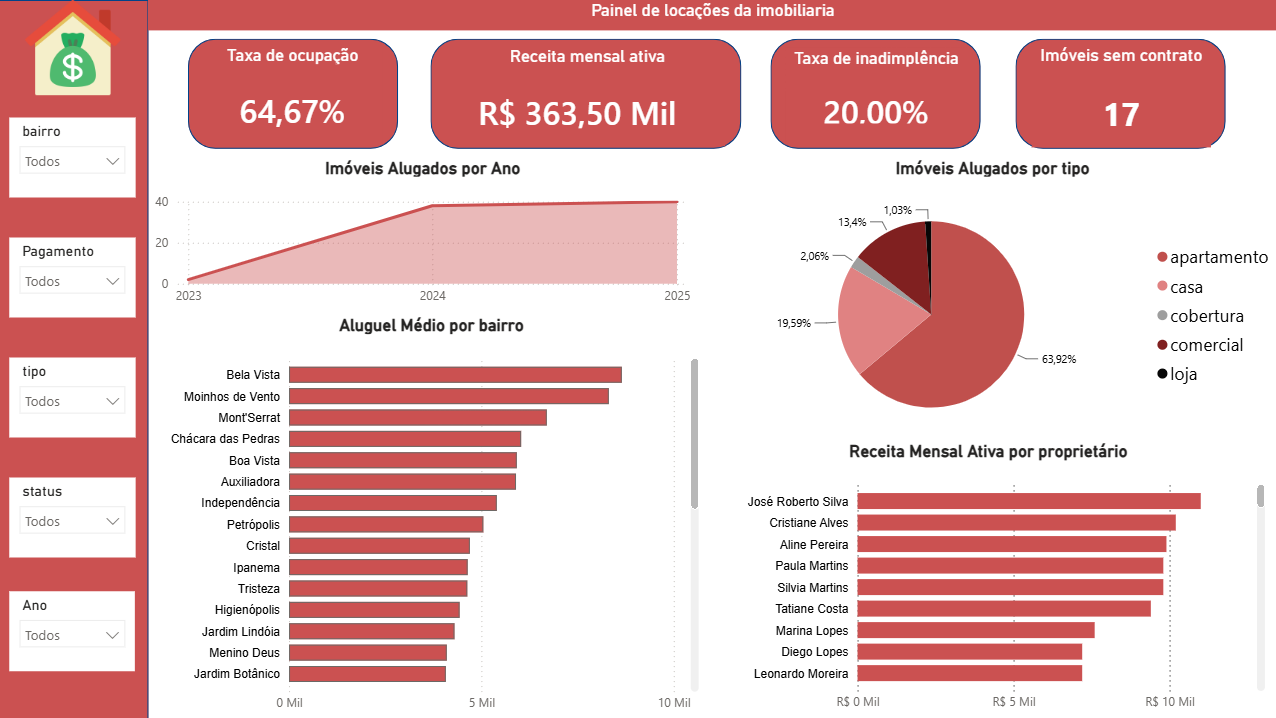

Layout of this report page (visuals, bound fields, positions):
{"tool":"powerbi","page":{"name":"Página 2","canvas":[1280,720],"ordinal":1},"visuals":[{"type":"shape","box":[0,0,150.4,720.2],"z":0},{"type":"shape","box":[433.1,38.6,310.8,110.1],"z":0},{"type":"slicer","fields":{"Values":["imoveis.bairro"]},"box":[11.5,117.5,126.1,80],"z":0,"group":"g1"},{"type":"shape","title":"Painel de locações da imobiliaria","box":[150.4,0,1129.9,30.6],"z":1000},{"type":"shape","box":[773,38.6,210.1,110.1],"z":1000},{"type":"slicer","fields":{"Values":["contratos.status_pagamento"]},"box":[11.5,237.5,126.1,80],"z":1000,"group":"g1"},{"type":"shape","box":[189.4,38.6,210.1,110.1],"z":2000},{"type":"slicer","fields":{"Values":["imoveis.tipo"]},"box":[11.5,357.5,126.1,80],"z":2000,"group":"g1"},{"type":"barChart","fields":{"Category":["imoveis.bairro"],"Y":["medidas.Aluguel Médio"]},"box":[161.1,315.1,544.7,405.6],"z":3000},{"type":"slicer","fields":{"Values":["contratos.data_inicio.Variation.Hierarquia de datas.Ano"]},"box":[11.6,590.8,125.8,80],"z":3000,"group":"g1"},{"type":"pieChart","fields":{"Category":["imoveis.tipo"],"Y":["medidas.Imóveis Alugados"]},"box":[708.2,158,571.9,278.7],"z":4000},{"type":"slicer","fields":{"Values":["imoveis.status"]},"box":[11.5,477.5,126.1,80],"z":4000,"group":"g1"},{"type":"cardVisual","title":"Taxa de ocupação","fields":{"Data":["medidas.Taxa de Ocupação"]},"box":[205.4,44.7,179.4,100.3],"z":5000},{"type":"areaChart","fields":{"Category":["contratos.data_inicio.Variation.Hierarquia de datas.Ano"],"Y":["medidas.Imóveis Alugados"]},"box":[151.9,157.7,544.7,156.2],"z":5000},{"type":"cardVisual","title":"Receita mensal ativa","fields":{"Data":["medidas.Receita Mensal Ativa"]},"box":[451.2,45.8,276.4,100.1],"z":6000},{"type":"clusteredBarChart","title":"Receita Mensal Ativa por proprietário","fields":{"Category":["proprietarios.nome"],"Y":["medidas.Receita Mensal Ativa"]},"box":[708.2,441.6,563.4,278.7],"z":6000},{"type":"cardVisual","title":"Taxa de inadimplência","fields":{"Data":["medidas.Taxa de Inadimplência"]},"box":[787.7,47.2,181.8,94.2],"z":7000},{"type":"group","id":"g1","title":"Grupo 1","box":[11.5,117.5,126.1,553.3],"z":7000},{"type":"image","box":[0,0,150.1,95.3],"z":8000},{"type":"shape","box":[1017.5,38.6,210.1,110.1],"z":8000},{"type":"cardVisual","title":"Imóveis sem contrato","fields":{"Data":["medidas.Imóveis sem Contrato (Alerta)"]},"box":[1033.4,44.7,179.4,102.7],"z":9000}]}

Visuals, with their boxes in screenshot pixels (x1, y1, x2, y2), scaled from the page's 1280x720 canvas onto the 1276x718 screenshot:
shape: select_region(0, 0, 150, 717)
shape: select_region(432, 38, 742, 148)
slicer - imoveis.bairro: select_region(11, 117, 137, 197)
"Painel de locações da imobiliaria" shape: select_region(150, 0, 1275, 31)
shape: select_region(771, 38, 980, 148)
slicer - contratos.status_pagamento: select_region(11, 237, 137, 317)
shape: select_region(189, 38, 398, 148)
slicer - imoveis.tipo: select_region(11, 357, 137, 436)
barChart - imoveis.bairro x medidas.Aluguel Médio: select_region(161, 314, 704, 717)
slicer - contratos.data_inicio.Variation.Hierarquia de datas.Ano: select_region(12, 589, 137, 669)
pieChart - imoveis.tipo x medidas.Imóveis Alugados: select_region(706, 158, 1275, 435)
slicer - imoveis.status: select_region(11, 476, 137, 556)
"Taxa de ocupação" cardVisual: select_region(205, 45, 384, 145)
areaChart - contratos.data_inicio.Variation.Hierarquia de datas.Ano x medidas.Imóveis Alugados: select_region(151, 157, 694, 313)
"Receita mensal ativa" cardVisual: select_region(450, 46, 725, 145)
"Receita Mensal Ativa por proprietário" clusteredBarChart: select_region(706, 440, 1268, 717)
"Taxa de inadimplência" cardVisual: select_region(785, 47, 966, 141)
"Grupo 1" group: select_region(11, 117, 137, 669)
image: select_region(0, 0, 150, 95)
shape: select_region(1014, 38, 1224, 148)
"Imóveis sem contrato" cardVisual: select_region(1030, 45, 1209, 147)
